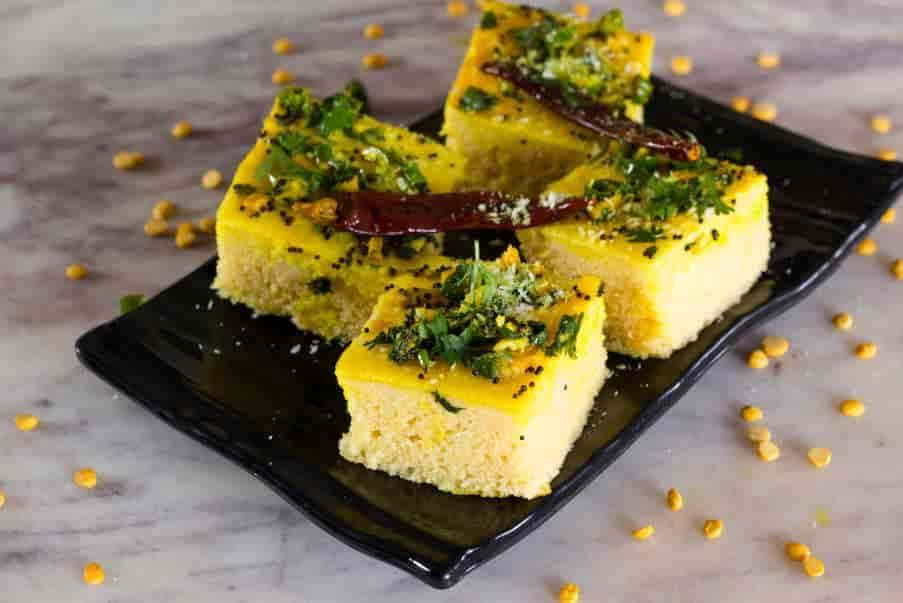dhokla: (233, 0, 777, 490)
